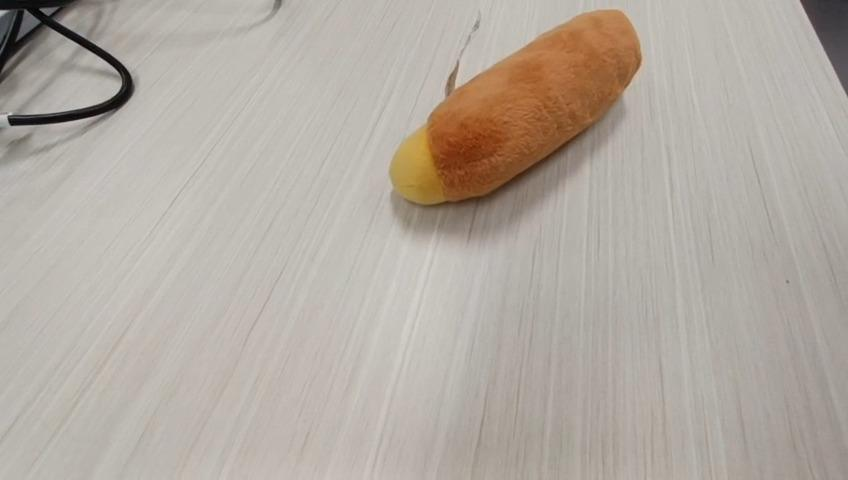hotdog: (387, 7, 642, 206)
